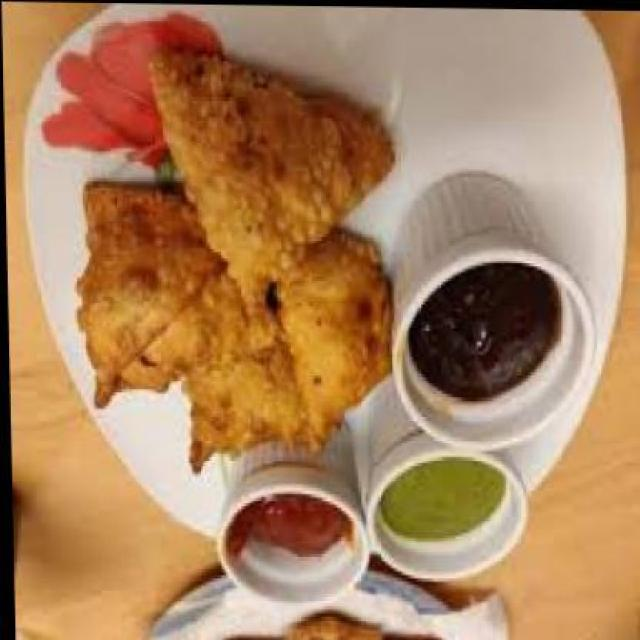samosa: (148, 52, 394, 312), (71, 180, 275, 409), (274, 224, 394, 438), (177, 315, 323, 477)
